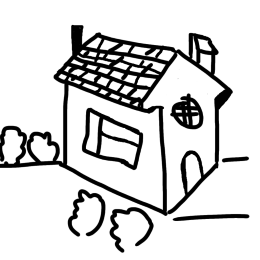chimney: (185, 18, 222, 74), (66, 13, 90, 57)
closed_window: (75, 106, 154, 178), (166, 90, 209, 131)
door: (178, 142, 209, 199)
roof: (30, 28, 236, 119)
wall: (52, 81, 176, 223)
